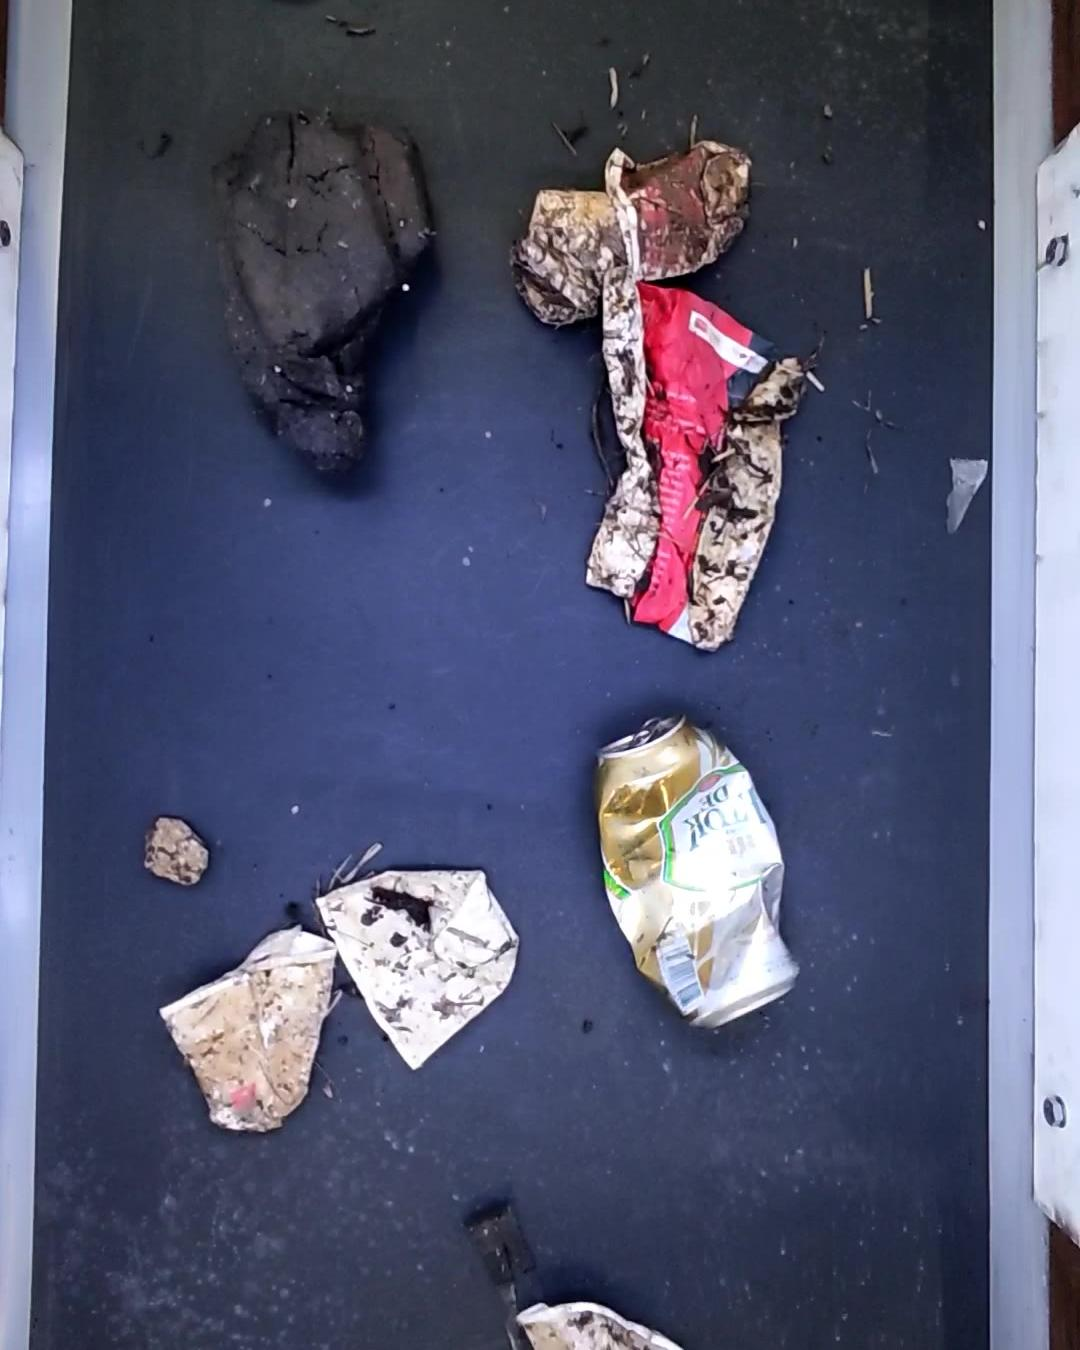Drankblikjes: (597, 714, 803, 1029)
Plastic folies of stukken daarvan 2.5- 50 cm: (940, 455, 992, 536)
Voedselverpakkingen: (583, 279, 820, 652)
